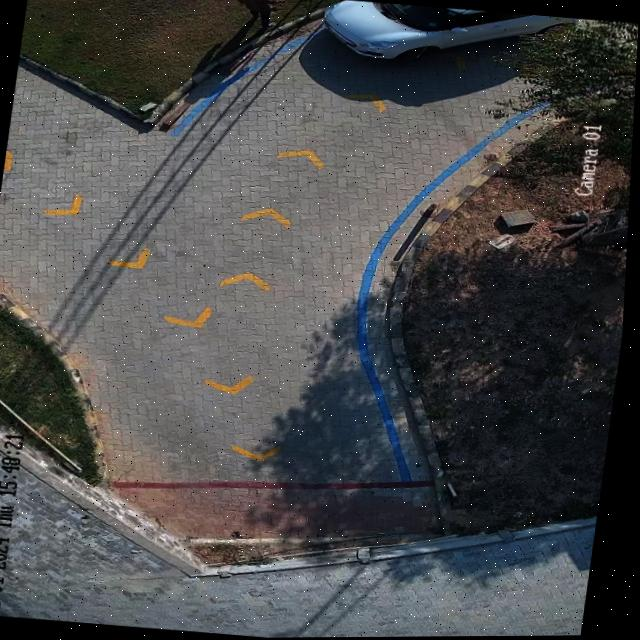car: (325, 0, 579, 59)
